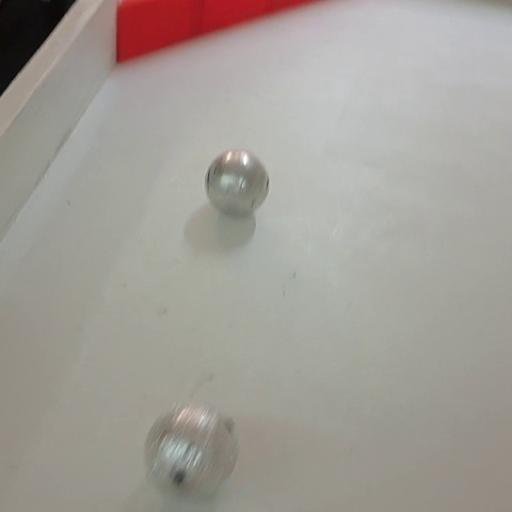alive: (143, 400, 240, 496), (204, 147, 272, 216)
